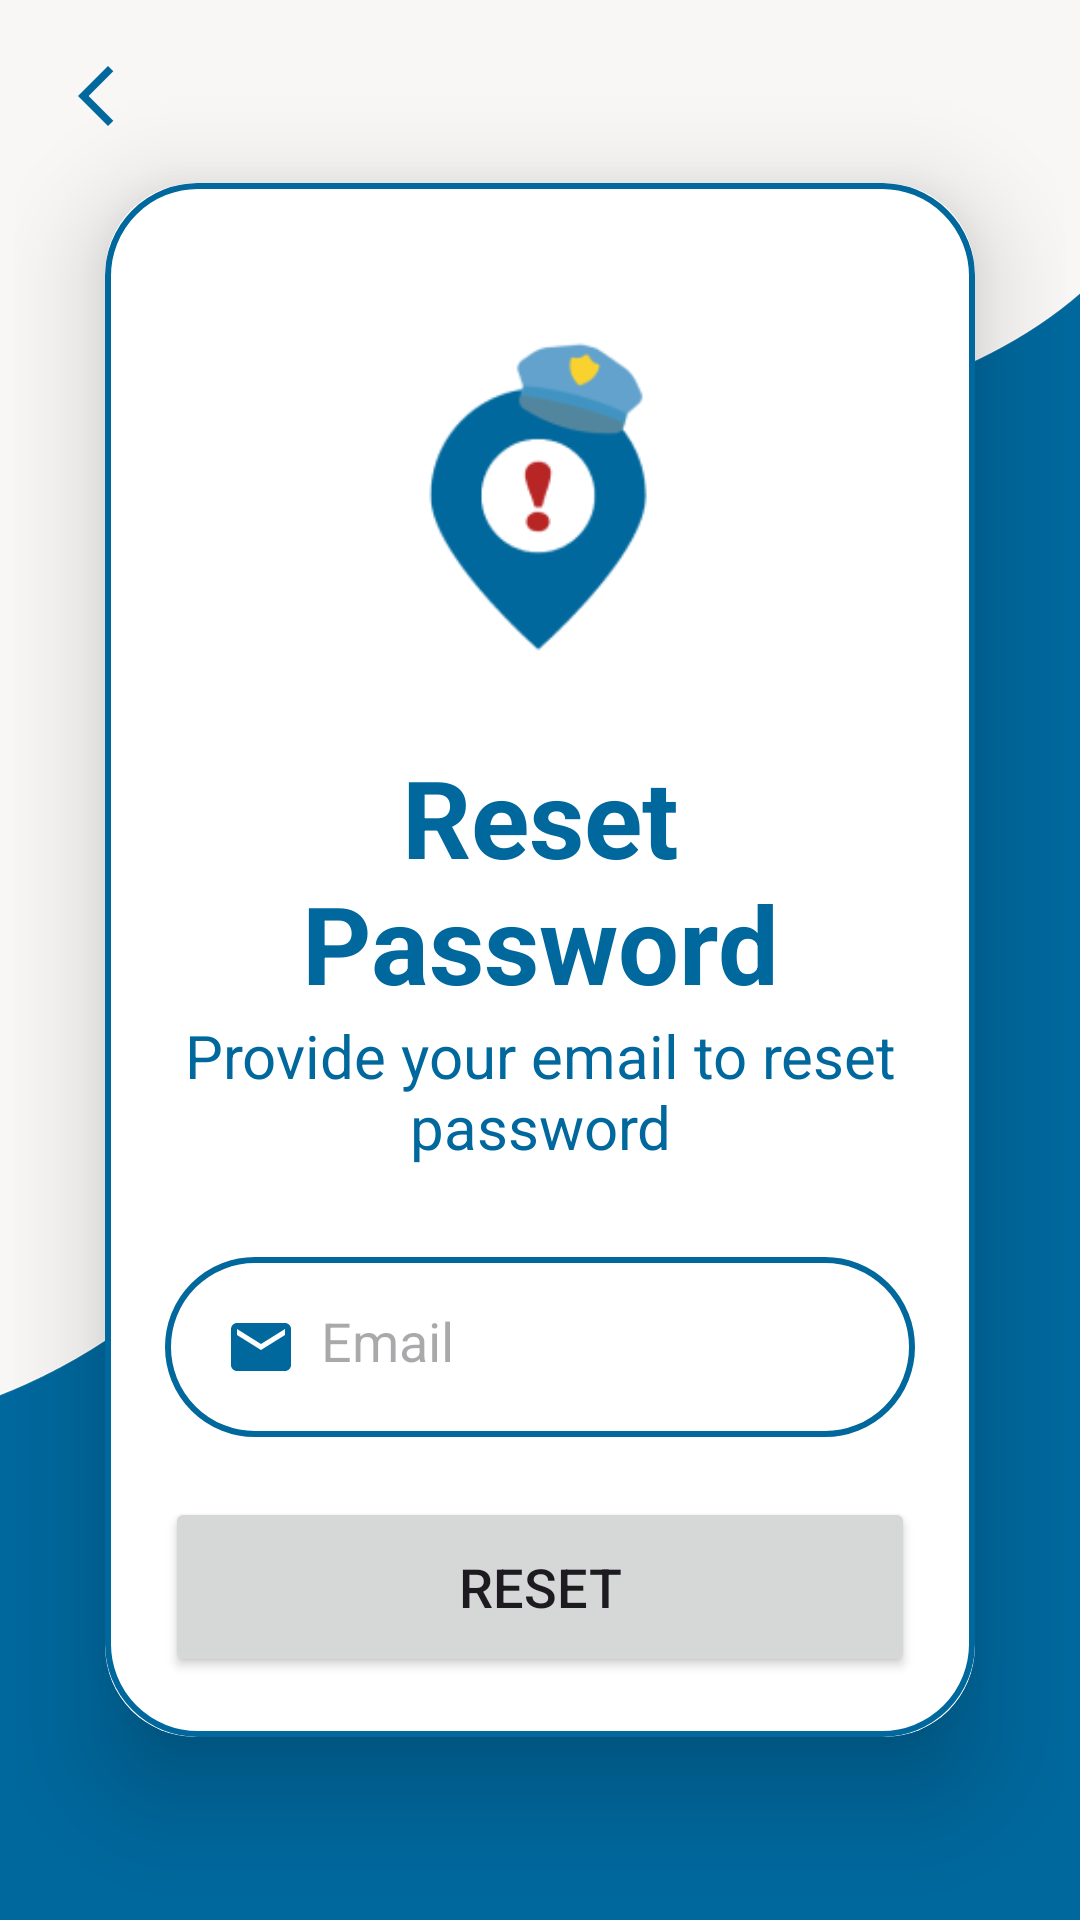

Icon click points for this 1080 × 1920 phone screenshot, format [x,y]:
arrow back: [95,96]
safe guard: [538,497]
